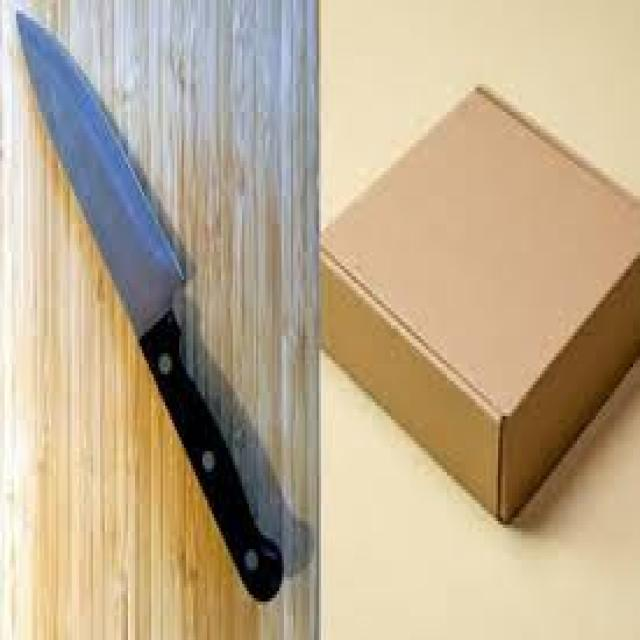Knife: (14, 10, 286, 605)
